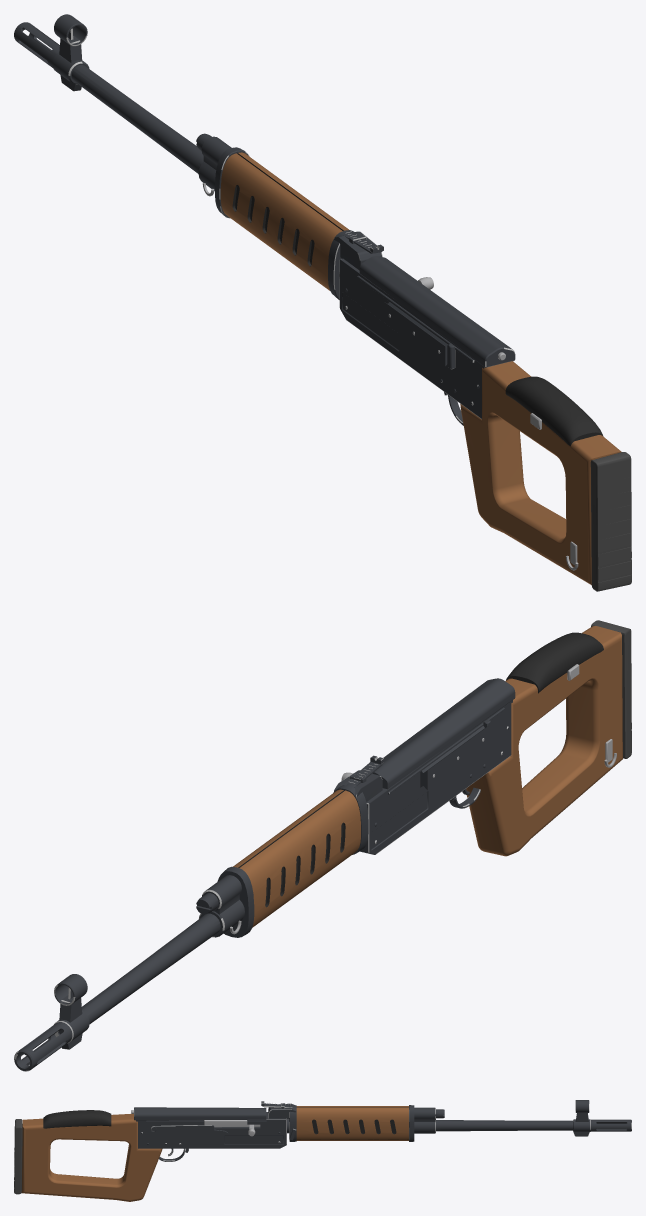
Rendered from svd.glb.
3 renders of one model, top to bottom at view 1: azimuth 30°, elevation 25°; view 2: azimuth 150°, elevation 25°; view 3: azimuth 270°, elevation 25°, orthographic. The views are drawn at different scales.
Parts seen in each view (by area): view 1: static; view 2: static; view 3: static, selector, bolt_carrier.
Boxes of the visible parts, x1,y1,x2,y2 form: static: [14, 14, 631, 591]; static: [14, 620, 631, 1071]; static: [14, 1100, 631, 1201]; selector: [151, 1125, 228, 1134]; bolt_carrier: [204, 1120, 260, 1136].
Size of the model in its own units: 0.0793 by 0.2155 by 1.23.
